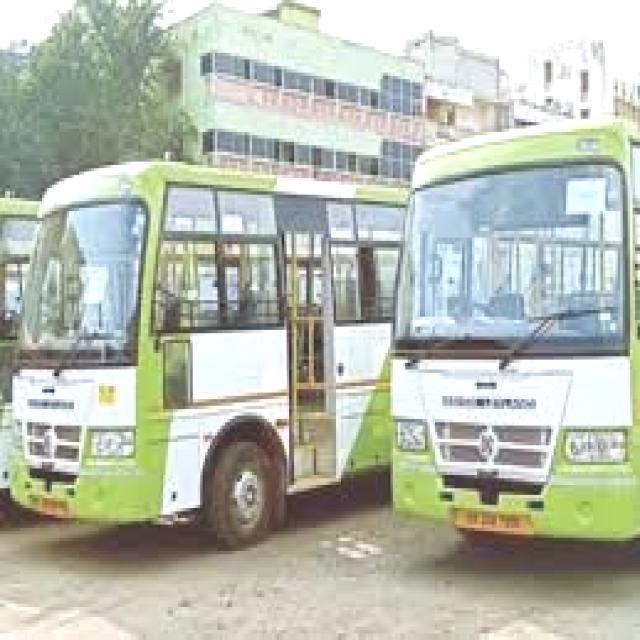Bus: (8, 142, 406, 533), (389, 110, 640, 563)
